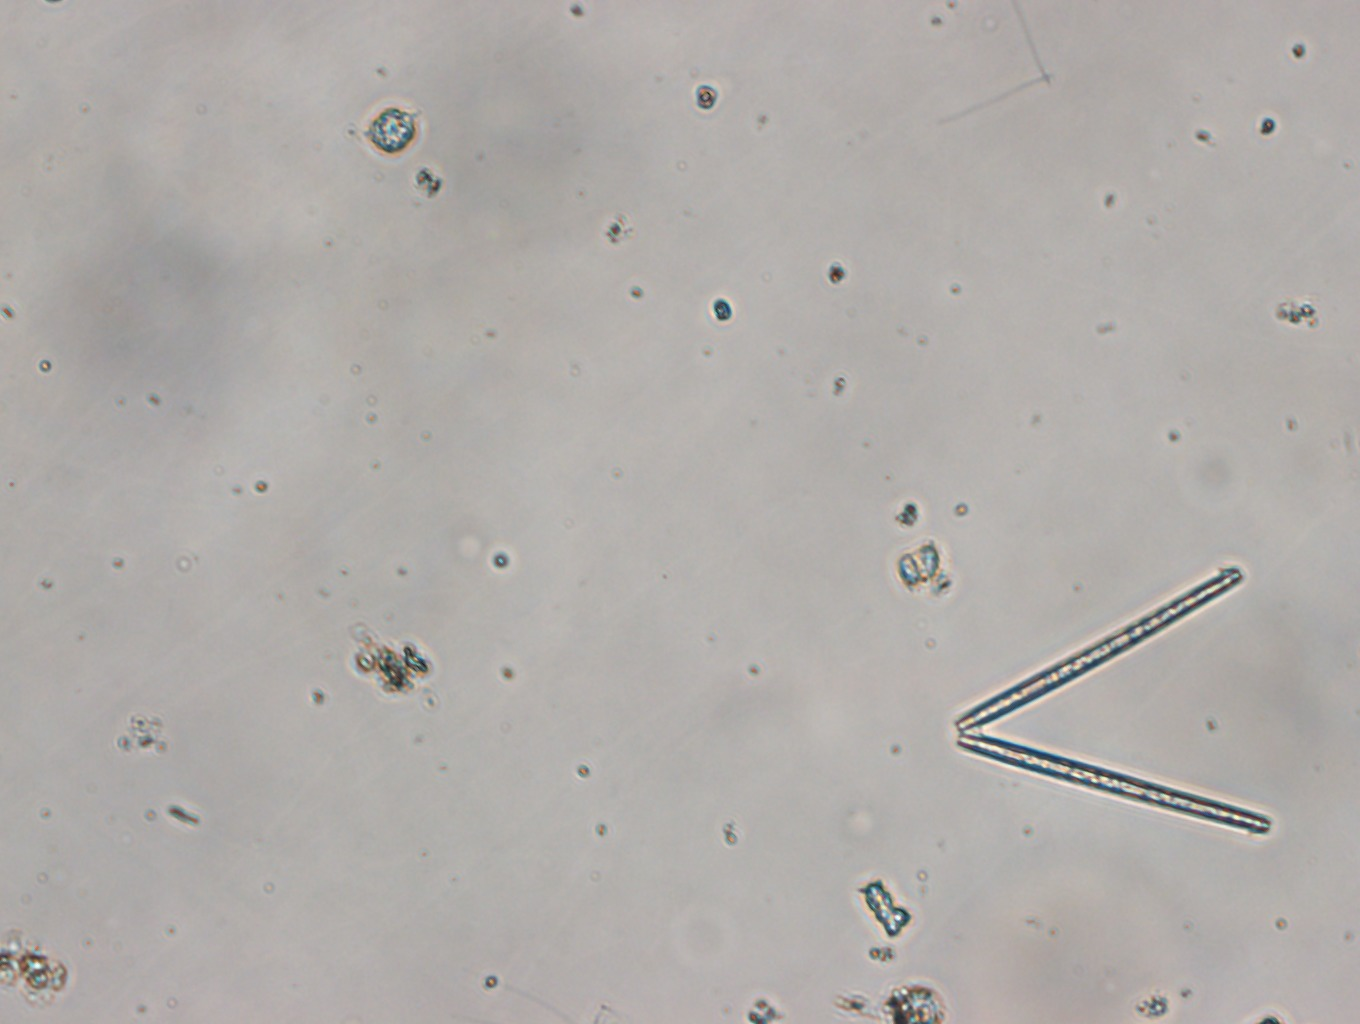thalassionema frauenfeldii: (951, 561, 1275, 841)
